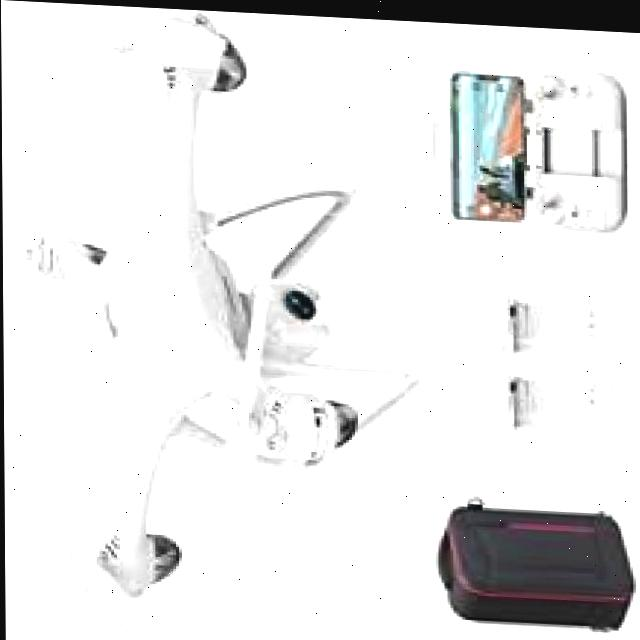drone: (0, 0, 430, 640)
